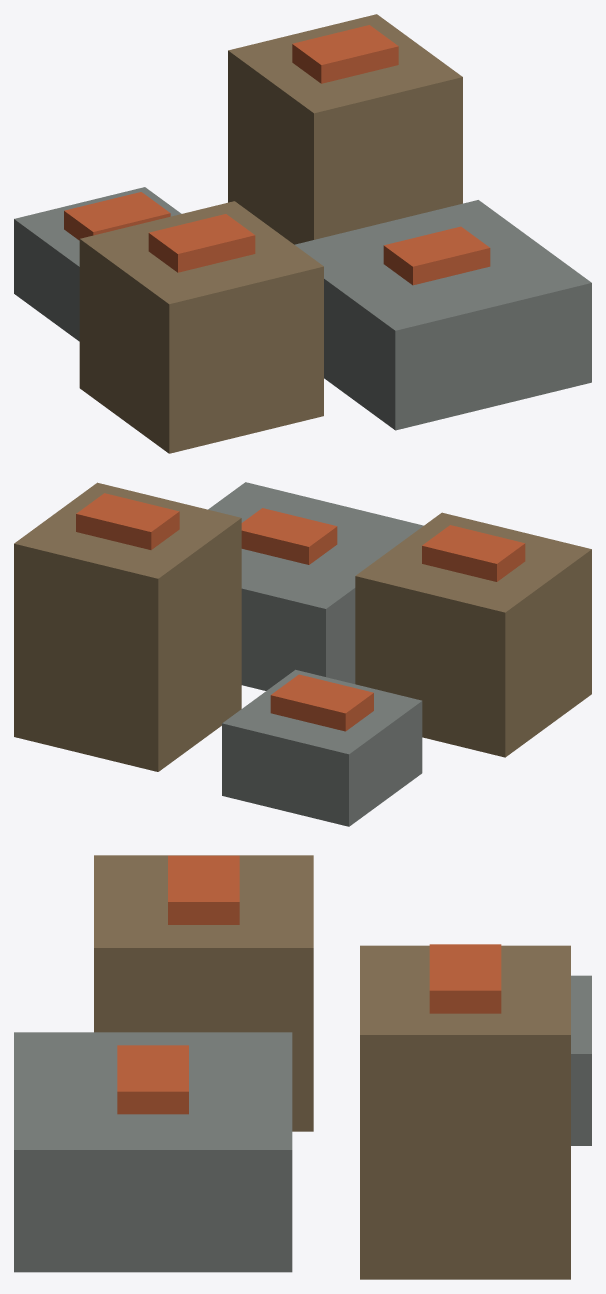
File: base_rubble.glb
3 views of the same model, one above another, from view 1: azimuth 30°, elevation 25°; view 2: azimuth 150°, elevation 25°; view 3: azimuth 270°, elevation 25° (orthographic). The views are drawn at different scales.
Visible parts, largest first — view 1: concrete, concrete.001, concrete.002, concrete.003, brick, brick.001, brick.002, brick.003; view 2: concrete.002, concrete, concrete.001, concrete.003, brick.002, brick.003, brick, brick.001; view 3: concrete.002, concrete.001, concrete, brick.002, brick, brick.001, concrete.003.
Part boxes in pixels (<box>): concrete: <box>79,201,323,453</box>; concrete.001: <box>294,200,591,430</box>; concrete.002: <box>228,14,462,244</box>; concrete.003: <box>14,187,181,341</box>; brick: <box>148,214,255,272</box>; brick.001: <box>383,226,490,285</box>; brick.002: <box>292,25,398,83</box>; brick.003: <box>64,192,170,240</box>; concrete.002: <box>14,482,241,771</box>; concrete: <box>355,512,591,757</box>; concrete.001: <box>208,482,423,690</box>; concrete.003: <box>222,669,422,826</box>; brick.002: <box>76,493,179,549</box>; brick.003: <box>270,674,373,731</box>; brick: <box>422,525,525,581</box>; brick.001: <box>241,508,337,564</box>; concrete.002: <box>360,945,570,1279</box>; concrete.001: <box>14,1032,292,1272</box>; concrete: <box>94,855,313,1131</box>; brick.002: <box>429,944,501,1013</box>; brick: <box>168,855,239,924</box>; brick.001: <box>117,1045,188,1114</box>; concrete.003: <box>571,975,591,1145</box>.
Size of the model in its own units: 0.675 by 0.35 by 0.685.
